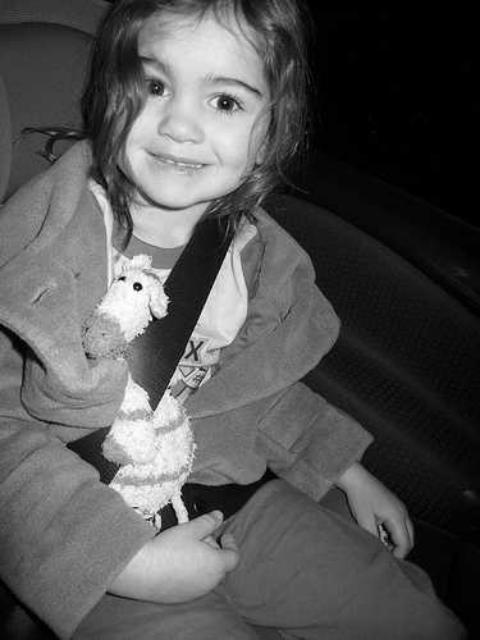SafeDriving: (196, 78, 255, 120), (137, 64, 178, 106)
Seatbelt: (60, 204, 286, 544)
